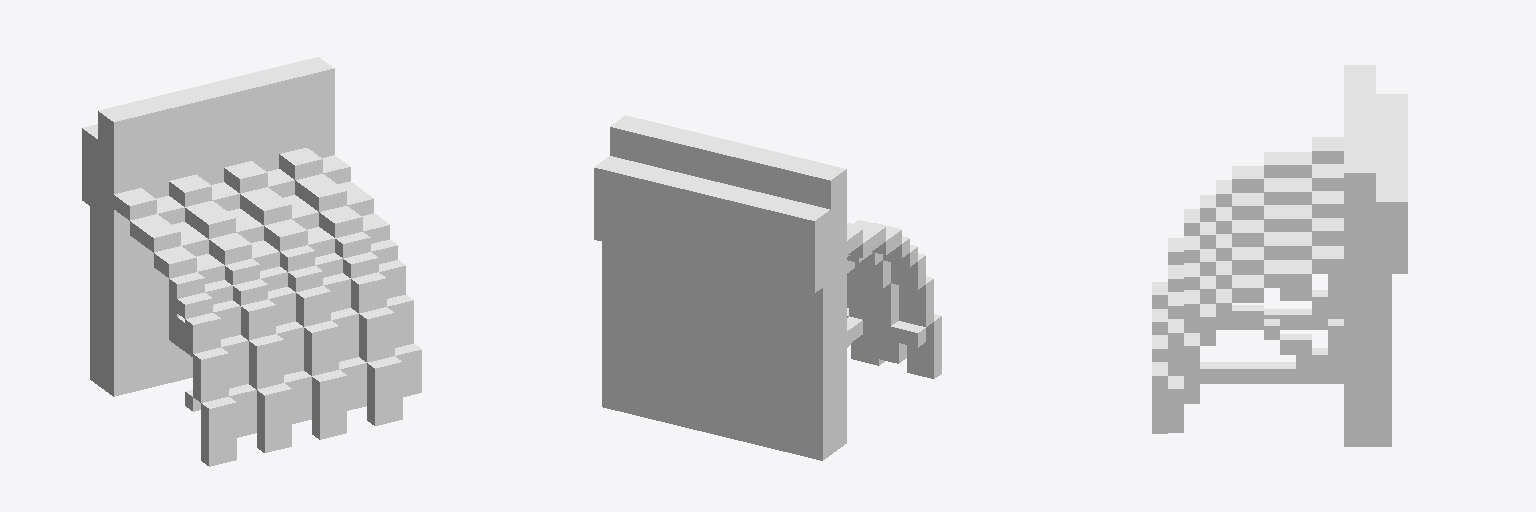
File: CeilingBitsFront.obj
The picture shows the model from 3 angles: view 1: azimuth 30°, elevation 25°; view 2: azimuth 150°, elevation 25°; view 3: azimuth 270°, elevation 25°; orthographic projection.
Visible parts, largest first — view 1: object 1; view 2: object 1; view 3: object 1.
Part boxes in pixels (left/top/right/bottom): object 1: left=82, top=57, right=421, bottom=466; object 1: left=594, top=115, right=941, bottom=460; object 1: left=1152, top=65, right=1407, bottom=446.
Bounding box in the file's own units: 1.6 × 1.9 × 1.6.